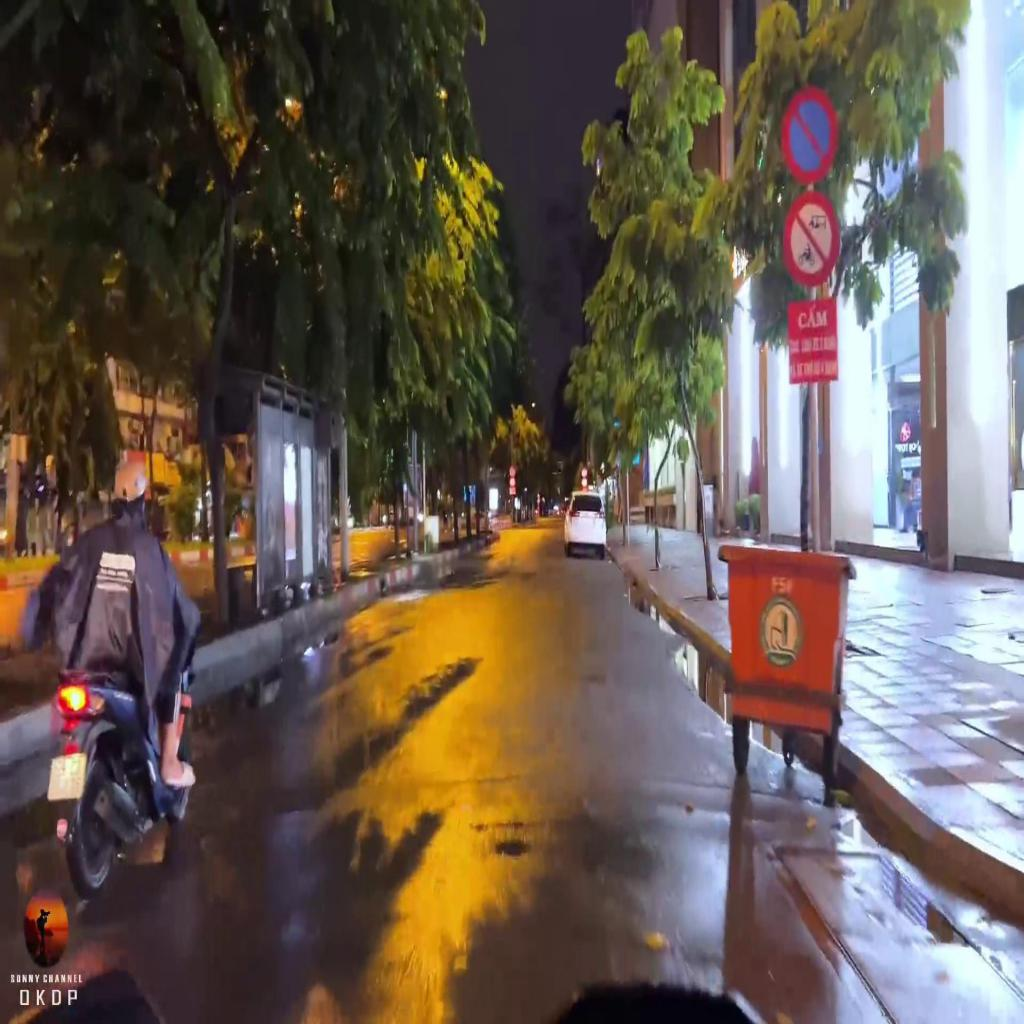cam_do_xe: (781, 84, 839, 184)
cam_xe_2_banh_va_xe_3_banh_co_dong_co: (782, 188, 840, 287)
